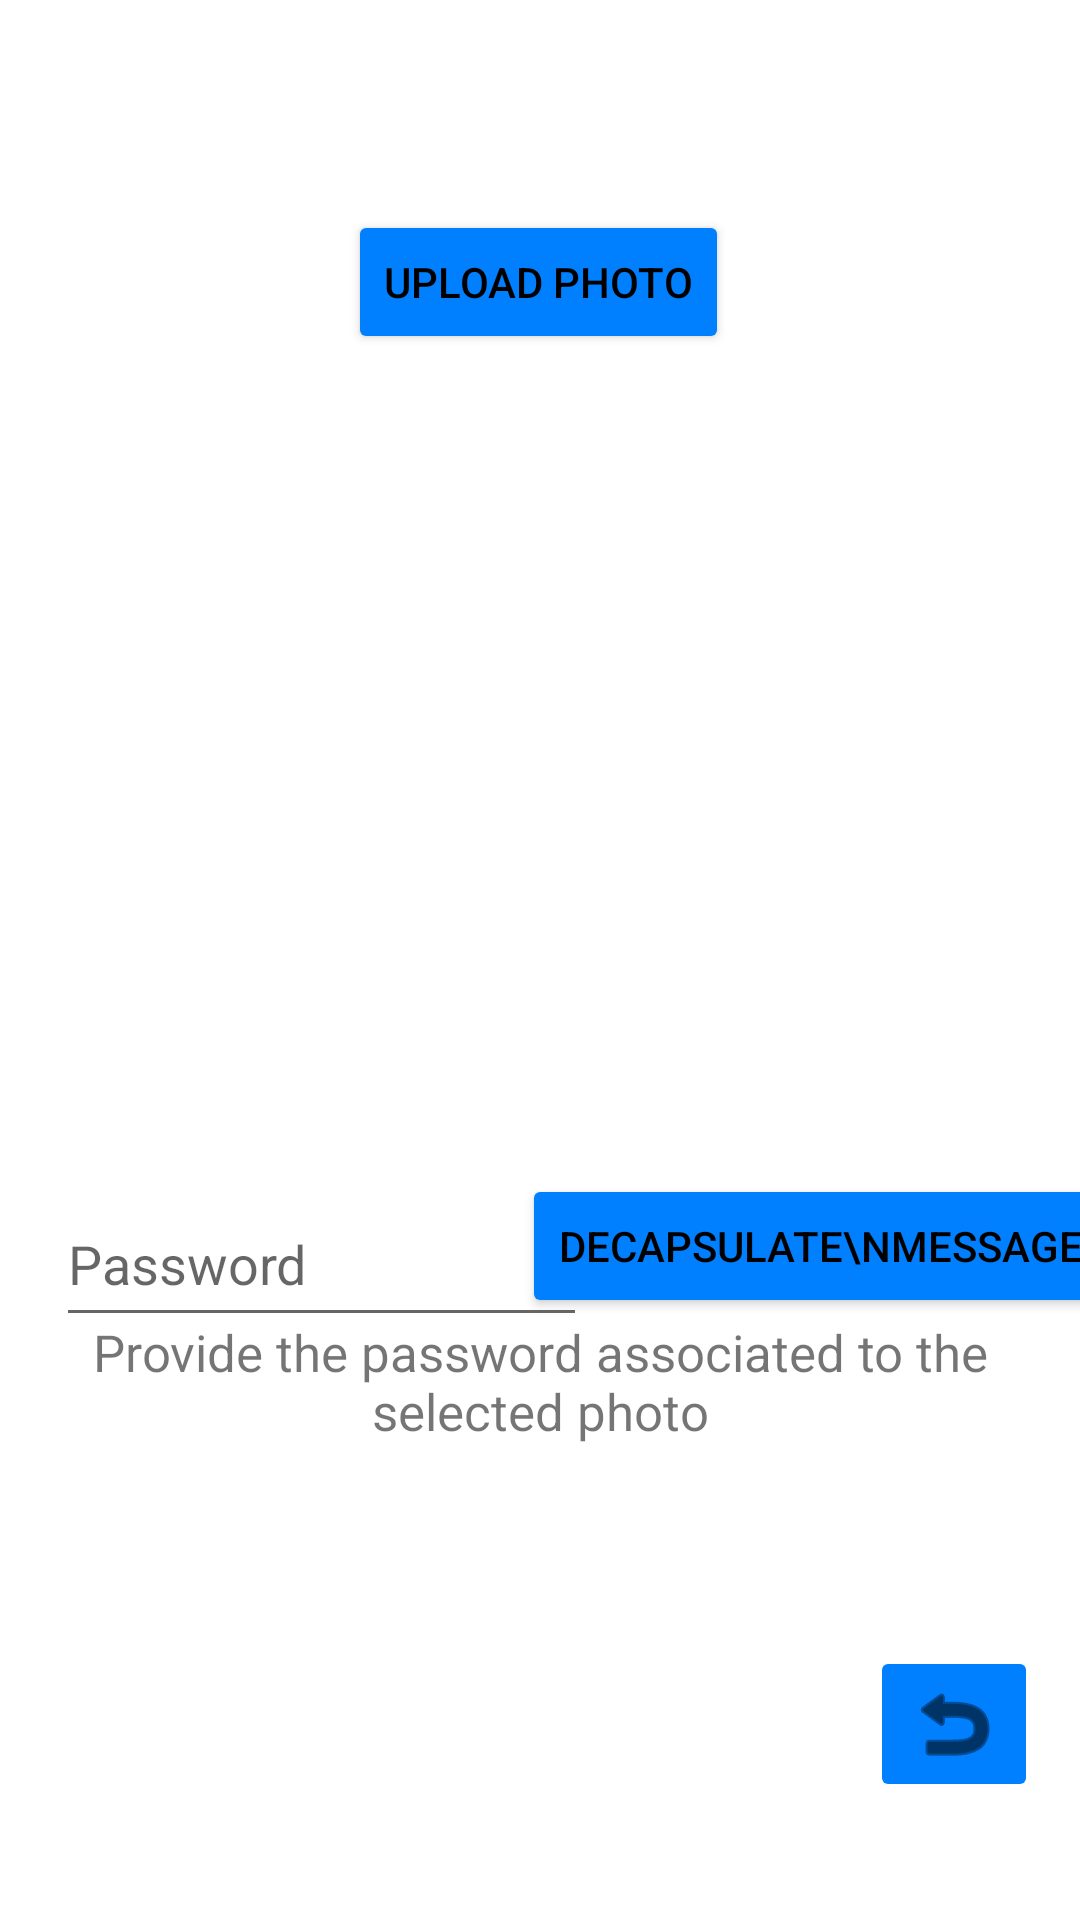

Icons on this 1080×1920 Android screen, each with the point to tap as (x,y):
revert: (954,1724)
